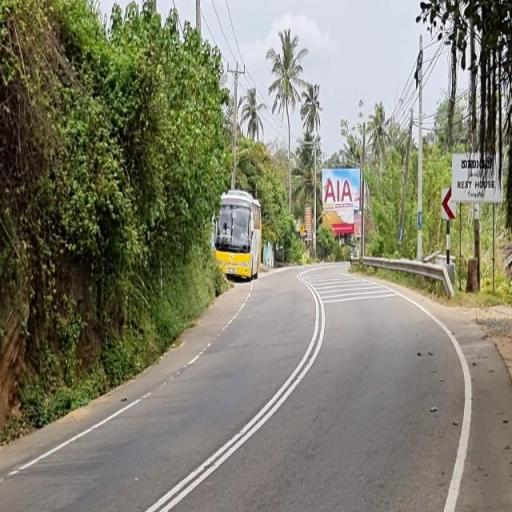double_white_line: (142, 280, 326, 511)
